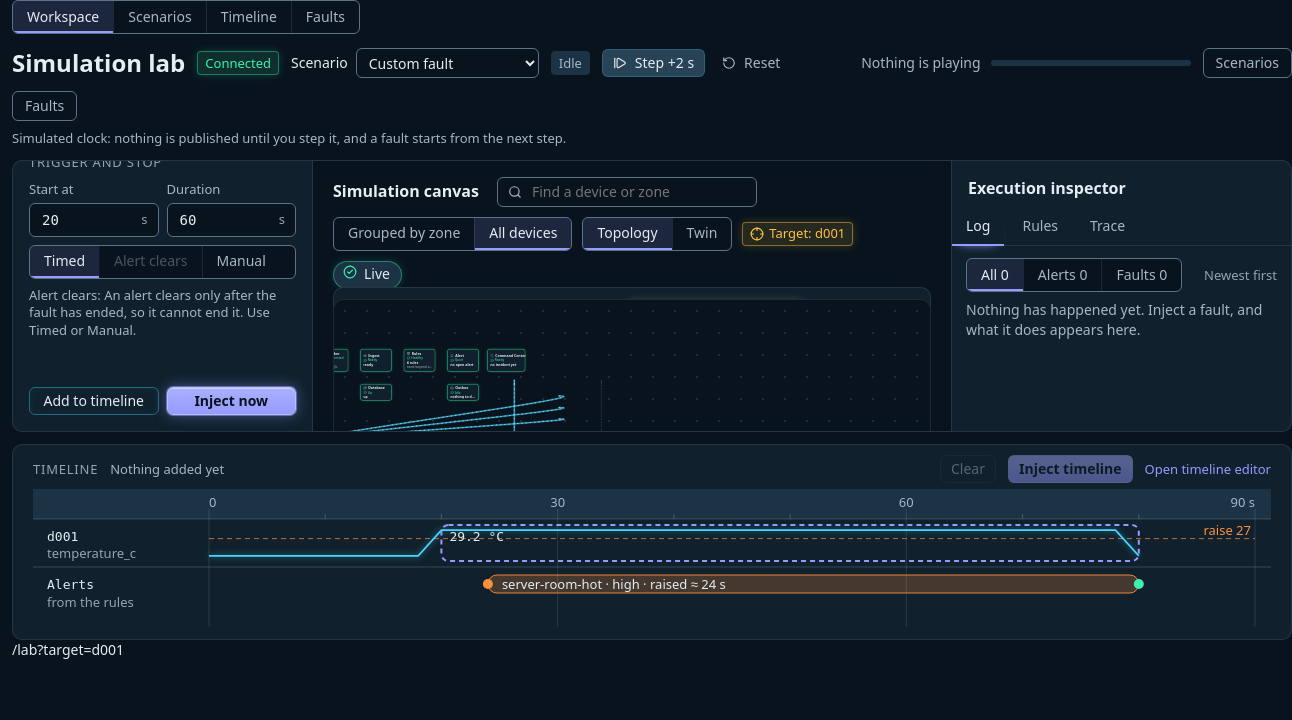
Lab: a breach on one device › injects the timeline, and records it in the log
The width and height of the screenshot is (1292, 720).
(page scrolled)
Click the button "Add to timeline": [94, 401] box [29, 387, 158, 415]
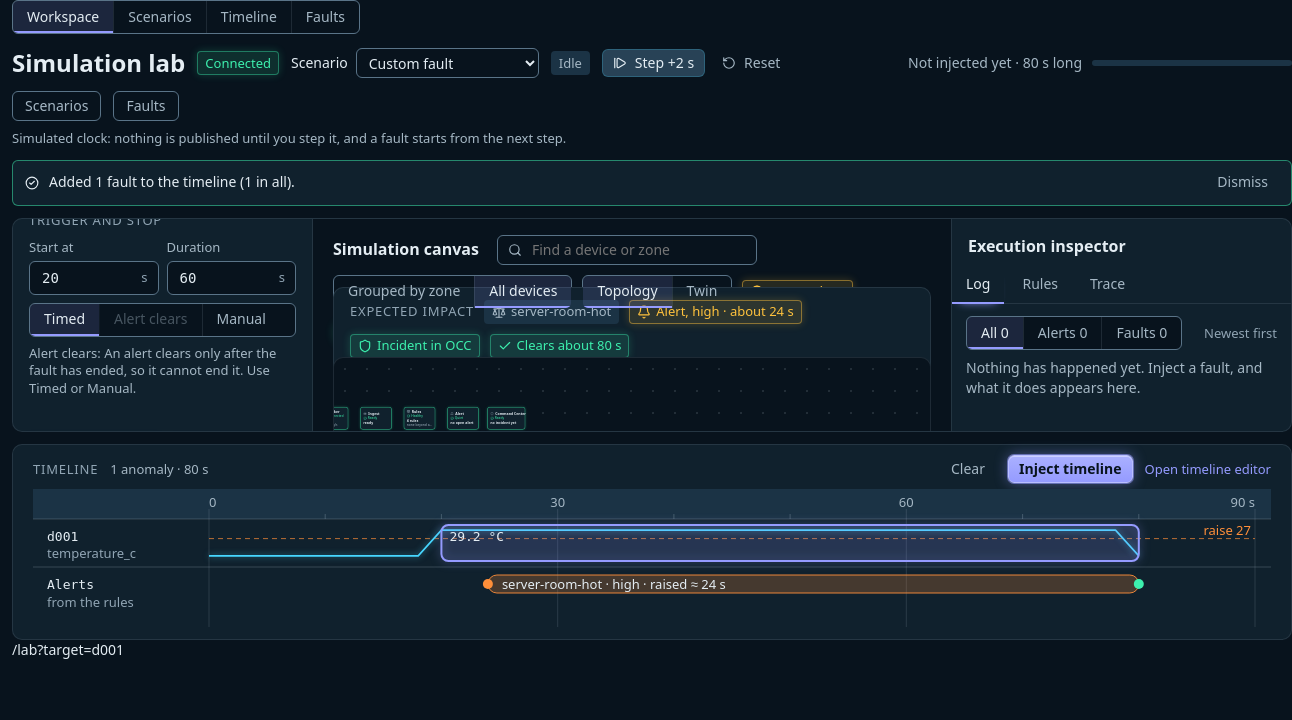
Click the button "Inject timeline": [1070, 469] box [1008, 455, 1132, 483]
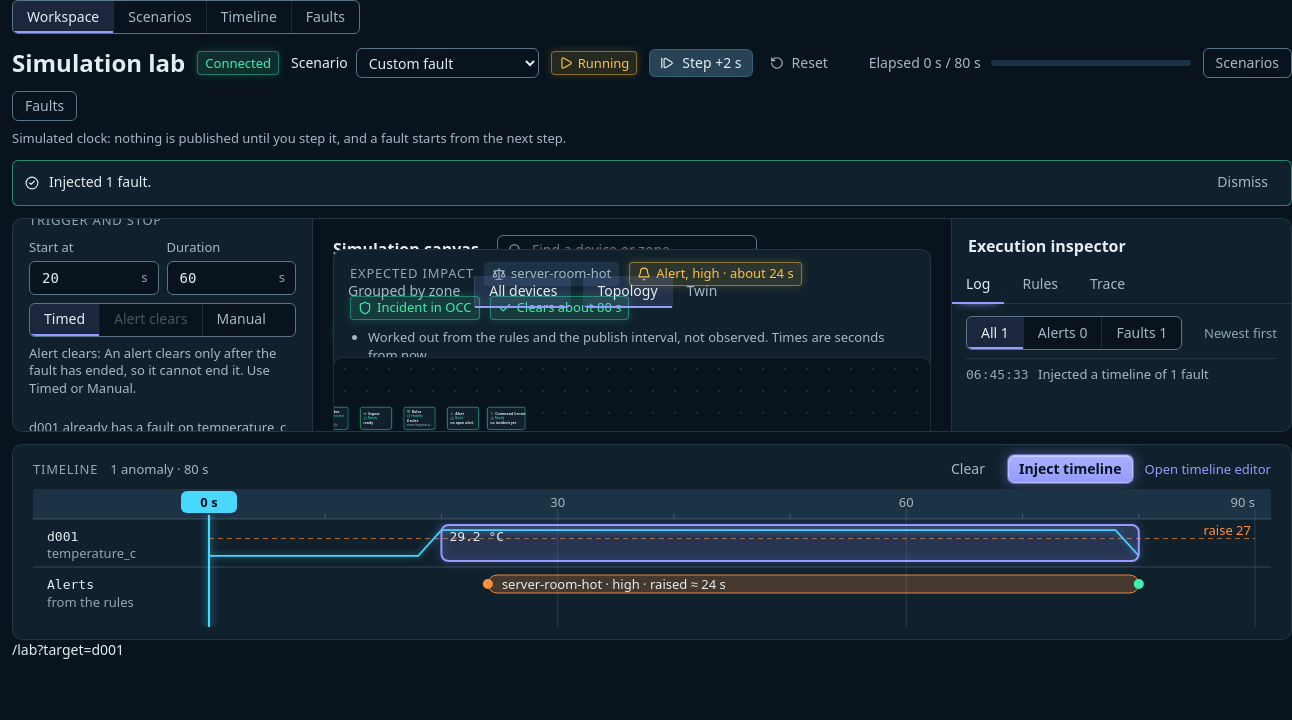
Expected: the text "Injected 1 fault." is shown, [49, 172, 151, 192]
Expected: the text "Injected a timeline of 1 fault" is shown, [1038, 365, 1209, 383]
